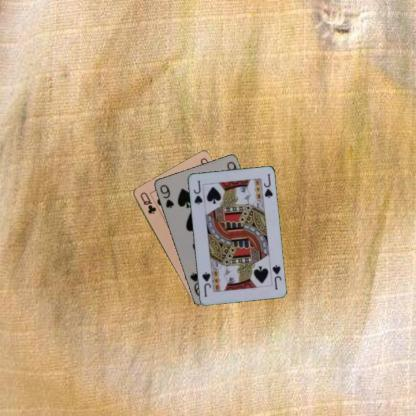9s: (157, 182, 175, 210)
Js: (270, 262, 282, 291), (191, 178, 203, 206)
Qc: (138, 189, 157, 215)
